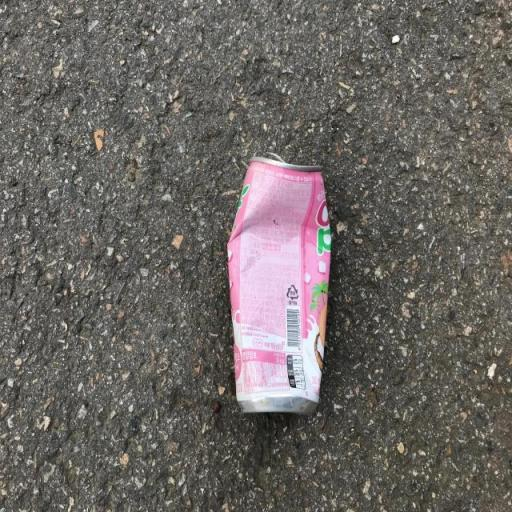metal: (215, 137, 347, 436)
